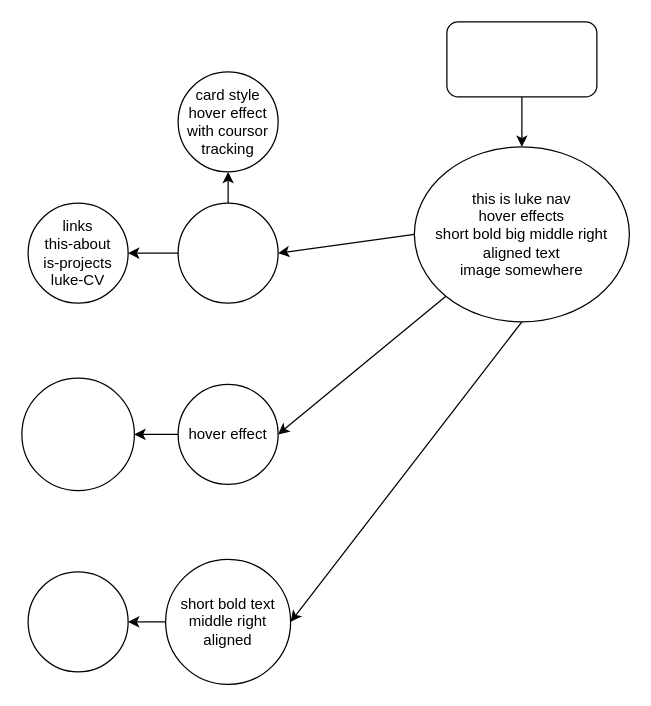
Image size: 651x706. Some labels were removed from this diagram. Each missing label, with the box of its shape:
landing index.html: (446, 21, 597, 97)
text and image rexspond to mouse hover: (21, 377, 134, 491)
this is luke nav: (177, 202, 278, 303)
